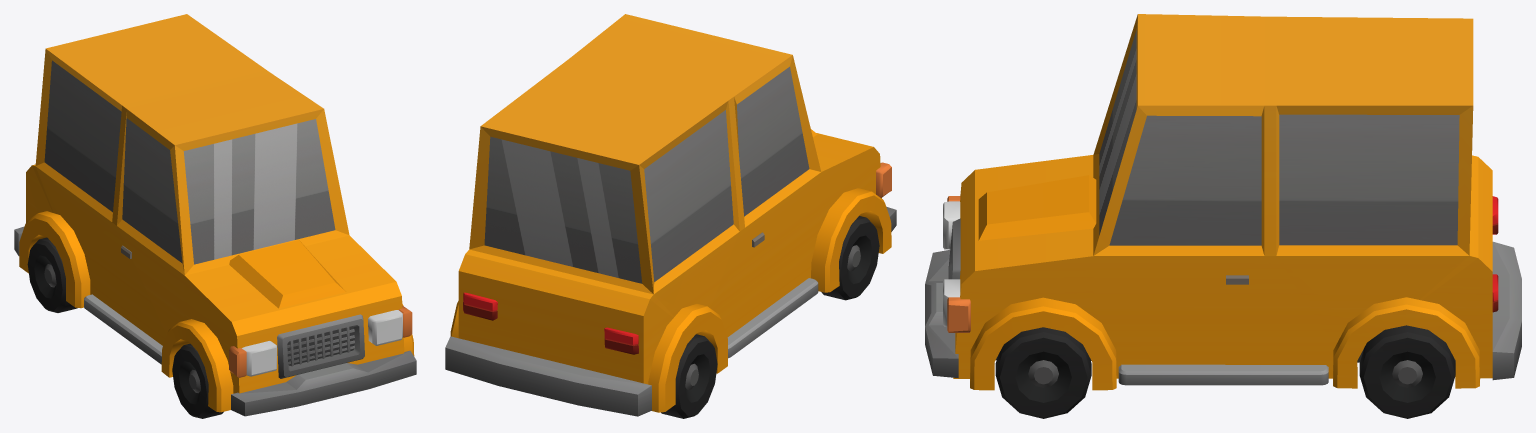
File: Car_5_19.fbx
The picture shows the model from 3 angles, left to right: view 1: azimuth 30°, elevation 25°; view 2: azimuth 150°, elevation 25°; view 3: azimuth 270°, elevation 25°; orthographic projection. The views are drawn at different scales.
Visible parts, largest first — view 1: Car_5_19, W_br, W_fr; view 2: Car_5_19, W_br, W_fr; view 3: Car_5_19, W_bl, W_fl.
Part boxes in pixels (x1,y1,x2,y2): Car_5_19: (14, 14, 416, 416); W_br: (27, 237, 77, 312); W_fr: (172, 343, 223, 418); Car_5_19: (445, 14, 896, 416); W_br: (661, 334, 717, 418); W_fr: (821, 216, 879, 300); Car_5_19: (925, 14, 1521, 390); W_bl: (1359, 325, 1455, 418); W_fl: (995, 327, 1091, 418).
Size of the model in its own units: 113 by 130 by 233.
